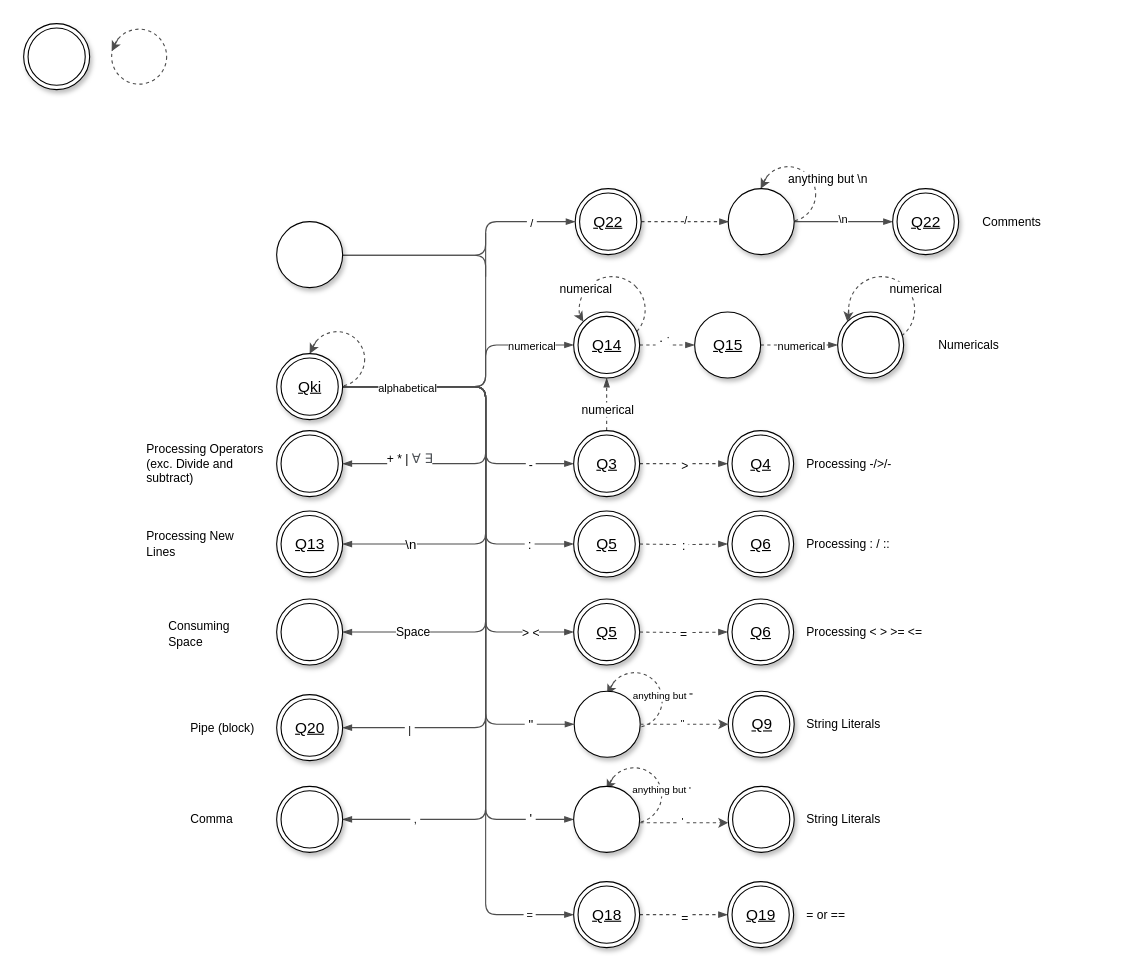
Some shapes in this 1121 by 975 pixel diagram are drawn without their labels. Each missing label, with the centre of its shape:
"NEW" goes at point (310, 255).
"Q10" goes at point (607, 820).
"Q11" goes at point (762, 820).
"Q12" goes at point (310, 464).
"Q16" goes at point (871, 346).
"Q17" goes at point (310, 633).
"Q2" goes at point (57, 57).
"Q21" goes at point (310, 820).
"Q23" goes at point (762, 222).
"Q8" goes at point (608, 725).
